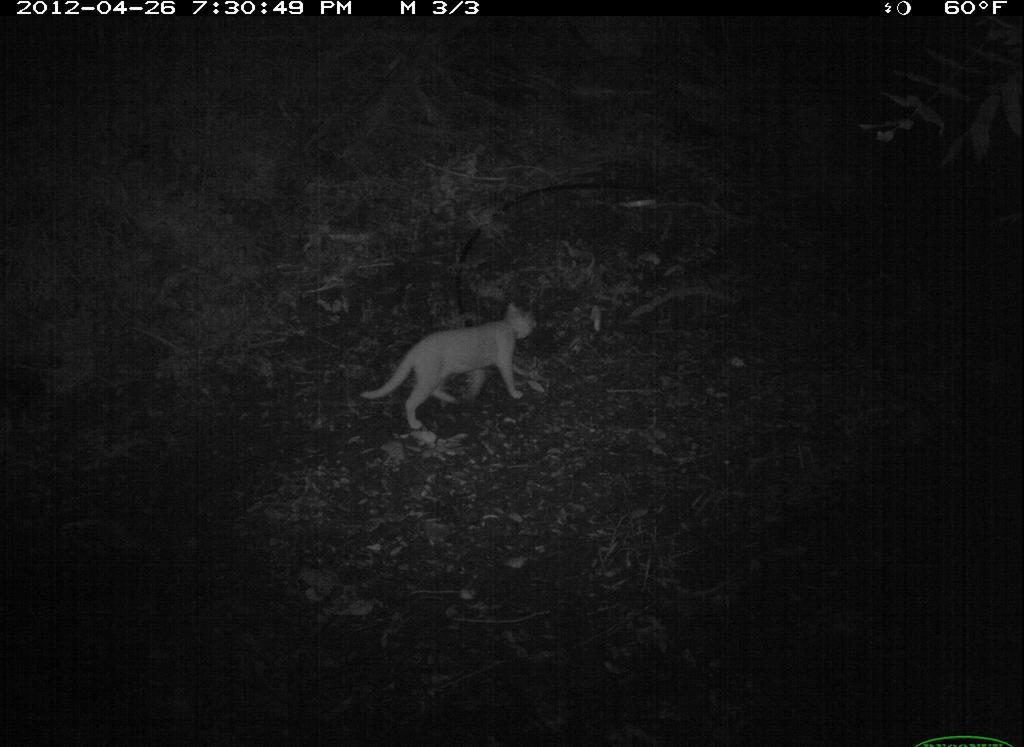cat: (364, 296, 548, 436)
